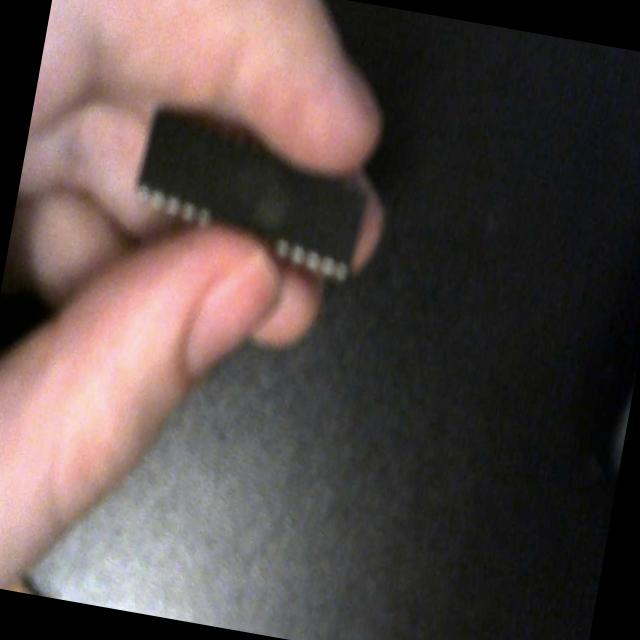atmega: (120, 94, 382, 294)
